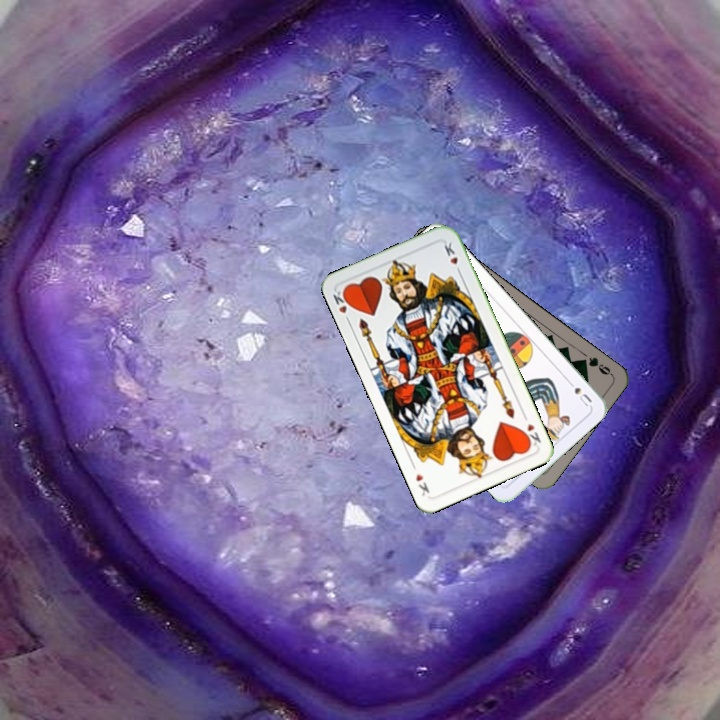G9: (576, 353, 615, 378)
HK: (329, 284, 354, 326), (518, 410, 544, 450)
SU: (562, 375, 595, 409)
